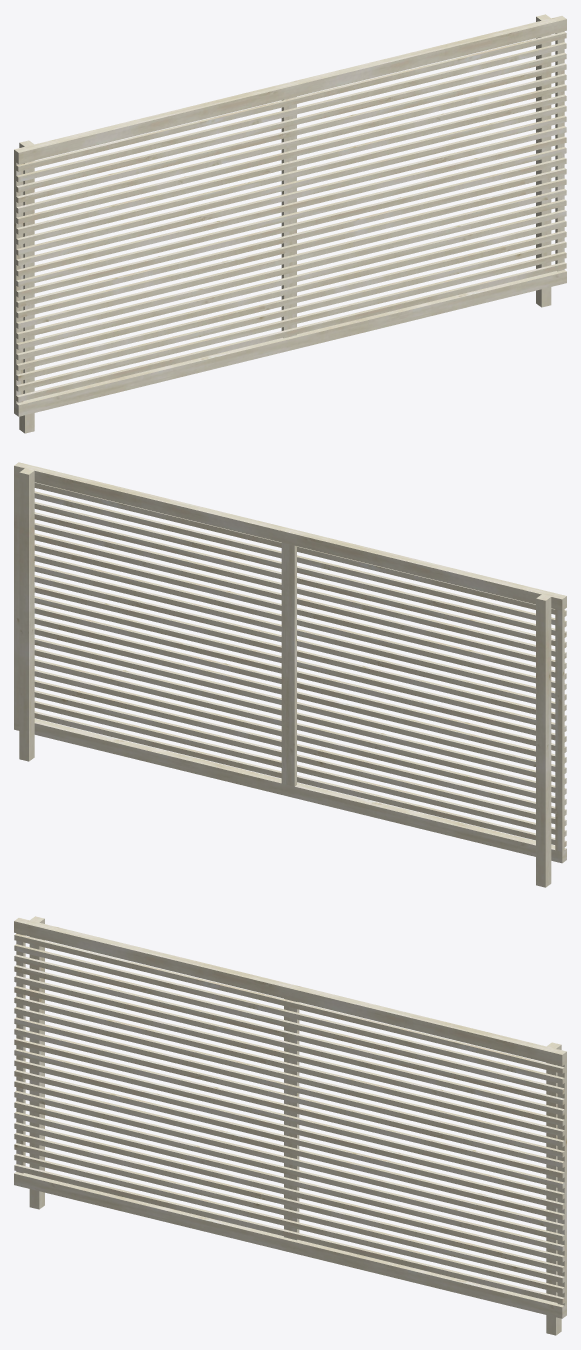
File: EAFsudarehosogoushi_w1998-h920_whitepine.fbx
3 renders of one model, top to bottom at view 1: azimuth 30°, elevation 25°; view 2: azimuth 150°, elevation 25°; view 3: azimuth 330°, elevation 25°, orthographic.
Visible parts, largest first — view 1: EAFsudarehosogoushi_w1998-h920_whitepine; view 2: EAFsudarehosogoushi_w1998-h920_whitepine; view 3: EAFsudarehosogoushi_w1998-h920_whitepine.
Boxes of the visible parts, x1,y1,x2,y2 form: EAFsudarehosogoushi_w1998-h920_whitepine: (14, 14, 566, 433); EAFsudarehosogoushi_w1998-h920_whitepine: (14, 462, 566, 887); EAFsudarehosogoushi_w1998-h920_whitepine: (14, 916, 566, 1335).
Bounding box in the file's own units: 200 × 100 × 6.5.
1 material, 1 textured.
